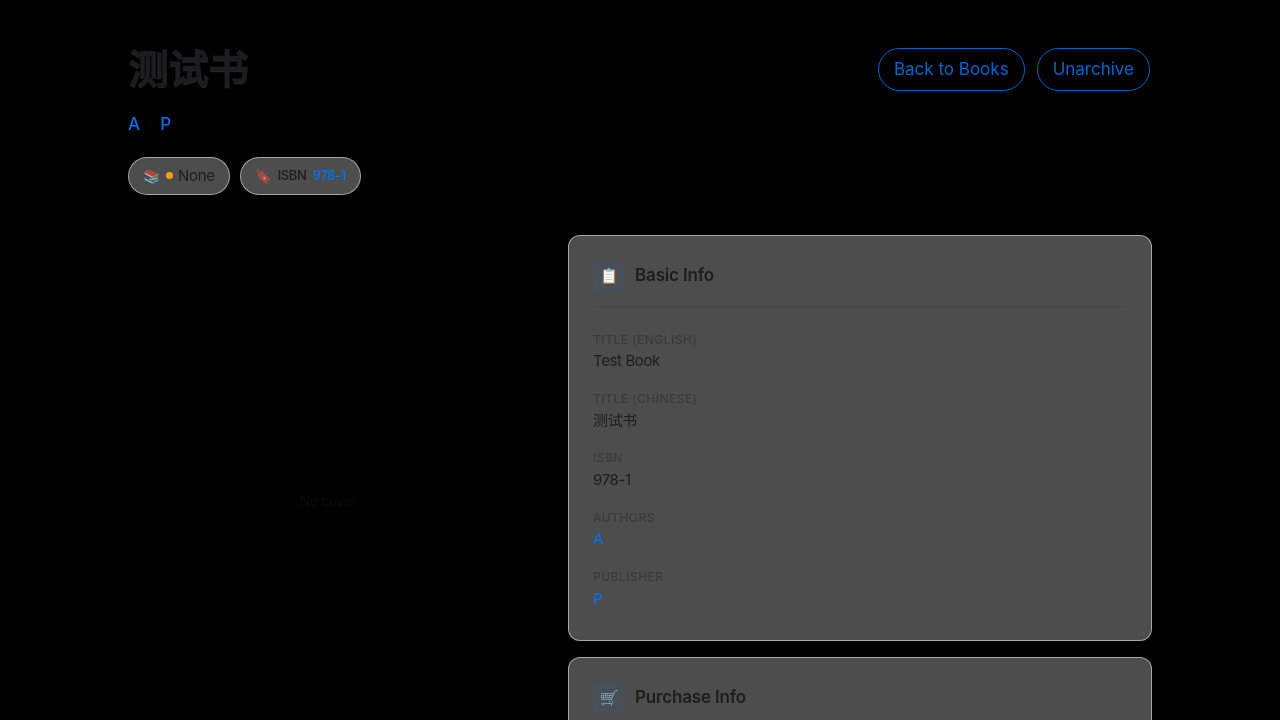
Test case: archived book offers unarchive and restores the book
Expected: the text "Edit" is not shown
Click the button "Unarchive".
click(1093, 70)  # box [1037,48,1150,91]
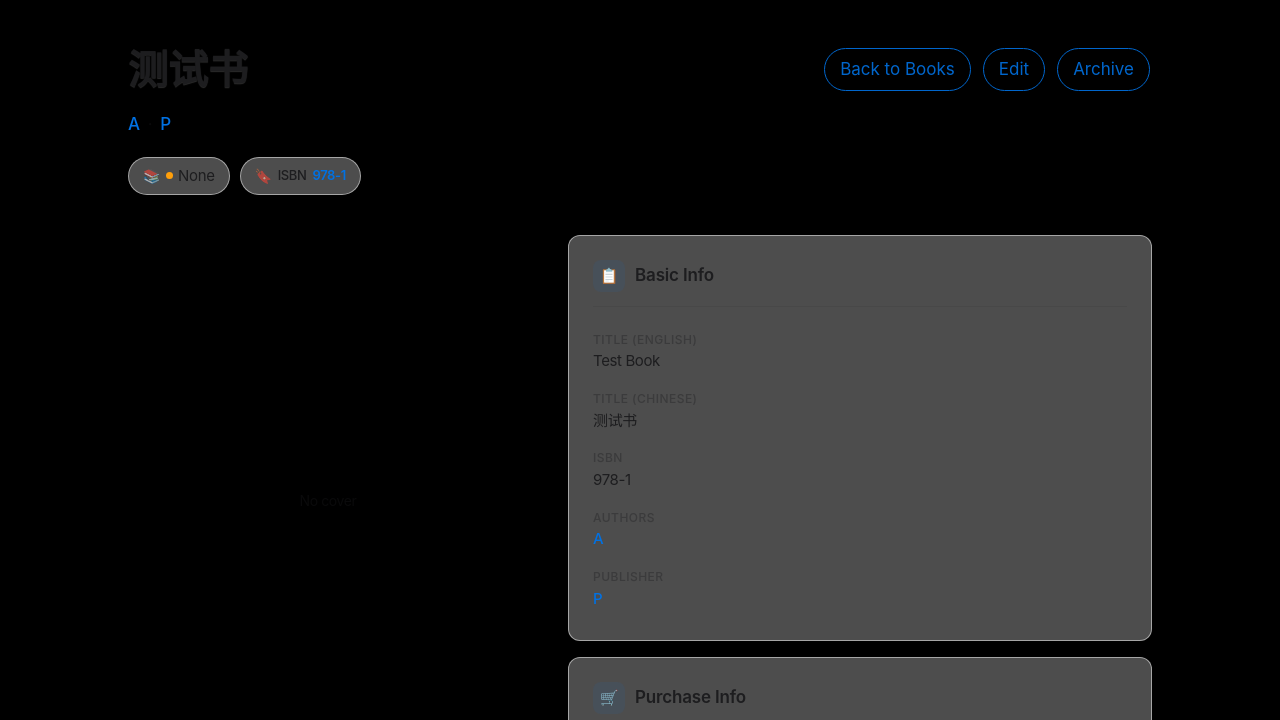
Result: the button "Unarchive" is gone
Result: the button "Edit" is shown at [983,48,1045,91]
